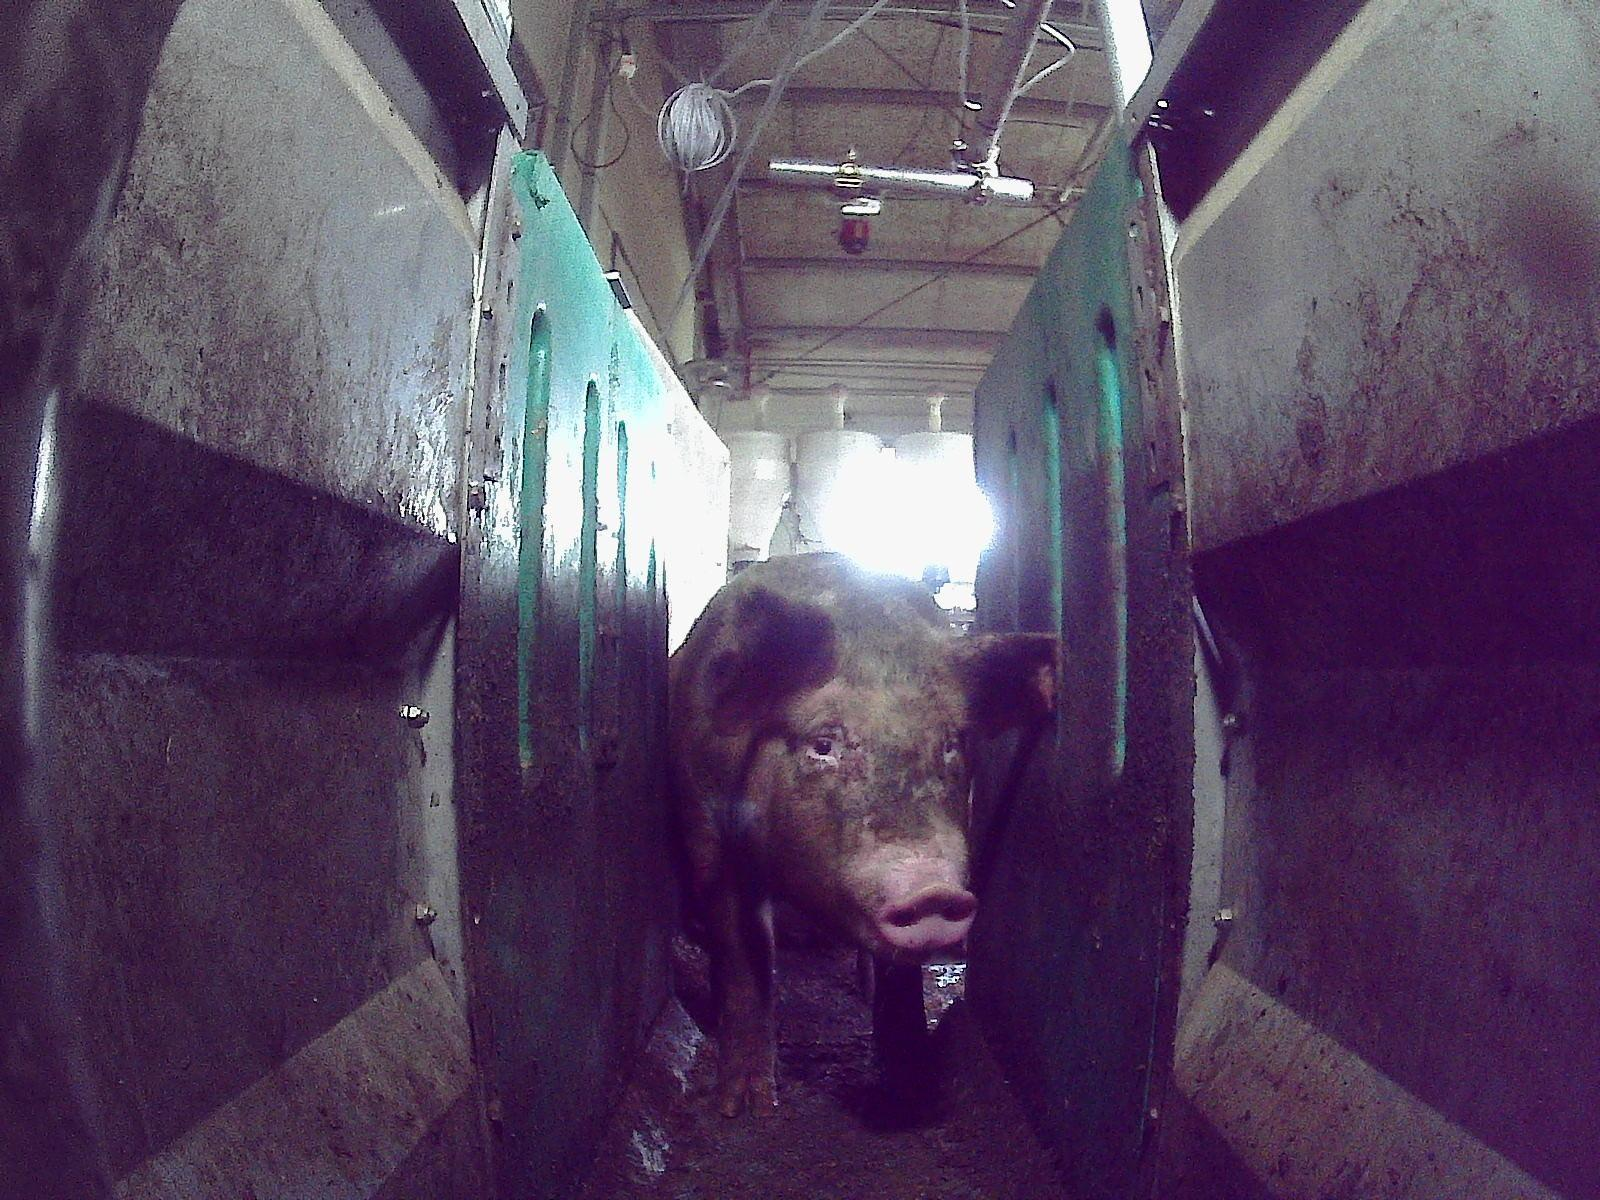Face: (742, 633, 976, 962)
